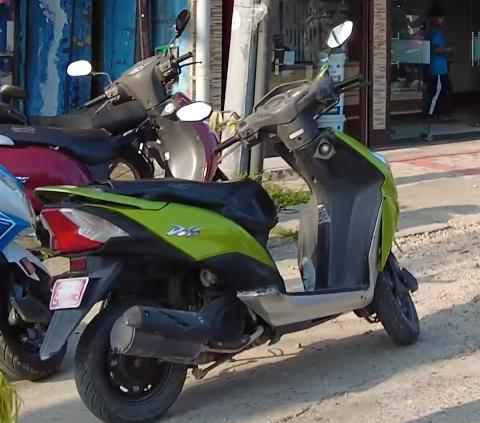scooter: (24, 74, 431, 418)
